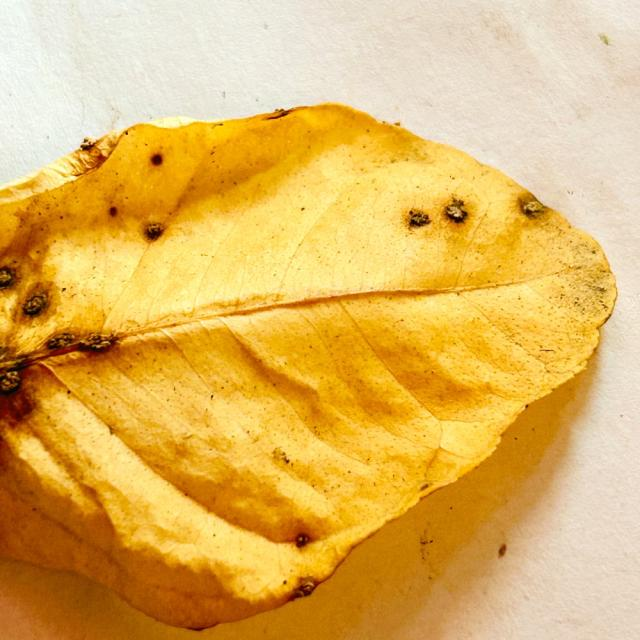DryLeaf_Lemon: (0, 104, 616, 627)
